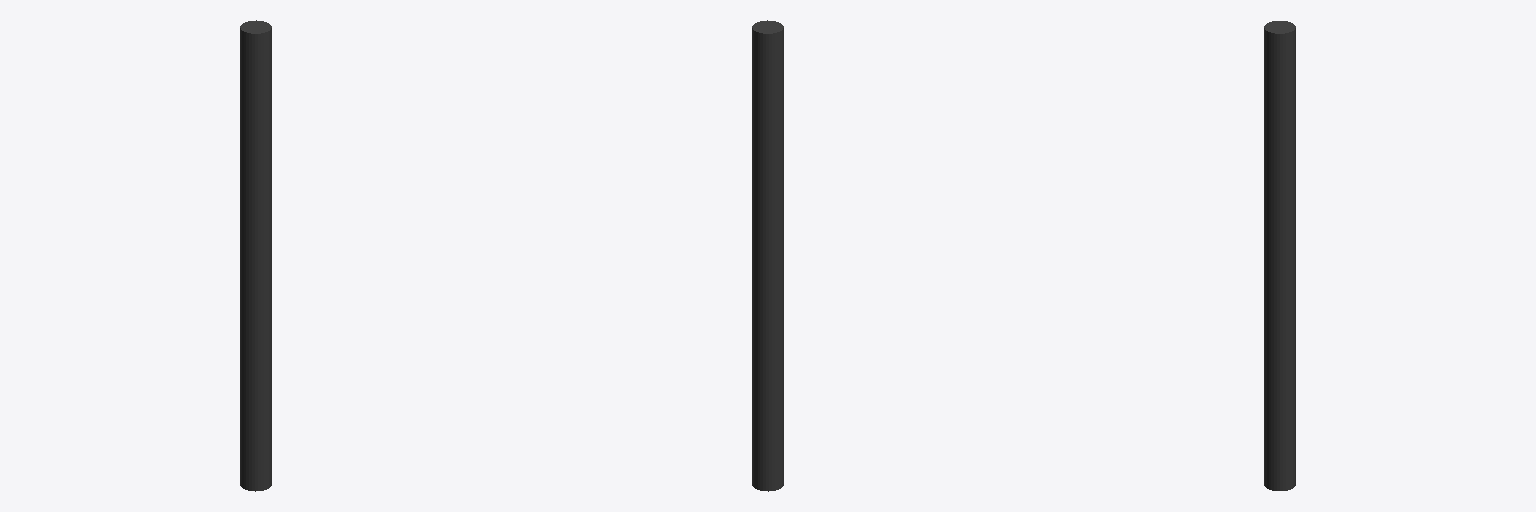
URDF robot description (pillar):
<?xml version='1.0' encoding='UTF-8'?>
<robot name="pillar">
    <link name="base_link">
        <inertial>
          <origin xyz="0.0 0.0 0.0" rpy="0.0 -0.0 0.0"/>
          <mass value="1.0"/>
          <inertia ixx="1.0" ixy="0.0" ixz="0.0" iyy="1.0" iyz="0.0" izz="1.0"/>
        </inertial>
        <visual name="base_link_visual">
            <origin xyz="0 0 0" rpy="0 0 0"/>
            <geometry>
                <cylinder radius="0.25" length="8"/>
            </geometry>
            <material name="base_link_color">
              <color rgba="0.3 0.3 0.3 1"/>
            </material>
        </visual>
        <collision name="base_link_collision">
            <origin xyz="0 0 0" rpy="0 0 0"/>
            <geometry>
                <cylinder radius="0.25" length="8"/>
            </geometry>
        </collision>
    </link>
</robot>

--- What the picture shows (computed from the rendered views, not written in the file) ---
The picture shows the robot from 3 angles, left to right: view 1: azimuth 30°, elevation 25°; view 2: azimuth 150°, elevation 25°; view 3: azimuth 270°, elevation 25°; orthographic projection.
Robot: pillar — 1 links, 0 joints (none); root link base_link; default pose: every joint at zero.
Links seen in each view (by area): view 1: base_link; view 2: base_link; view 3: base_link.
Boxes of the visible links, x1,y1,x2,y2 form: base_link: (240,20,271,491); base_link: (752,20,783,491); base_link: (1264,21,1295,490).
Bounding box of the posed robot: 0.5 × 0.5 × 8 m (x, y, z).
Geometry: primitives only (box / cylinder / sphere), no mesh files.